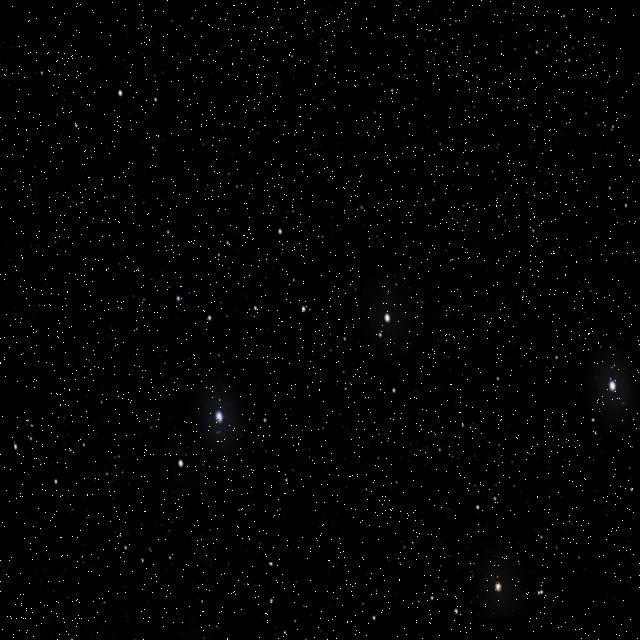Phoenix: (224, 211, 406, 429)
